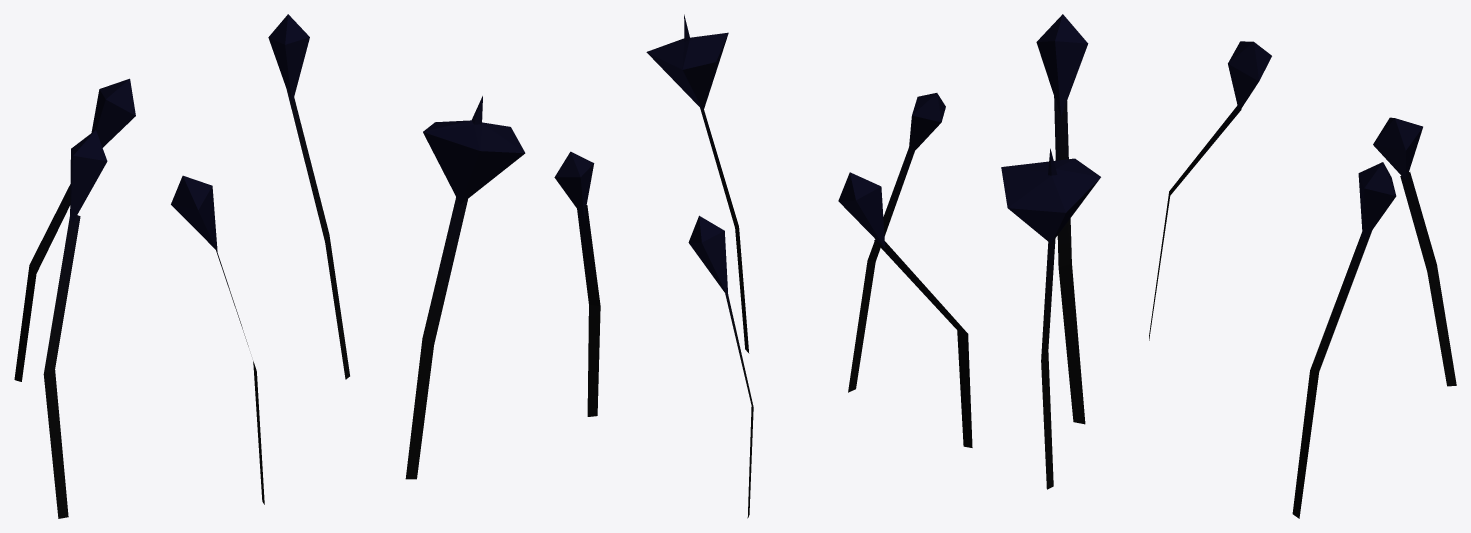
Rendered from PatchTulip01.fbx.
The picture shows the model from 3 angles, left to right: view 1: azimuth 30°, elevation 25°; view 2: azimuth 150°, elevation 25°; view 3: azimuth 270°, elevation 25°; orthographic projection. The views are drawn at different scales.
Visible parts, largest first — view 1: PatchTulip01; view 2: PatchTulip01; view 3: PatchTulip01.
Part boxes in pixels (x1,y1,x2,y2): PatchTulip01: (14,14,525,518); PatchTulip01: (554,14,972,518); PatchTulip01: (1001,14,1456,518).
Size of the model in its own units: 48.73 by 41.24 by 44.95.
